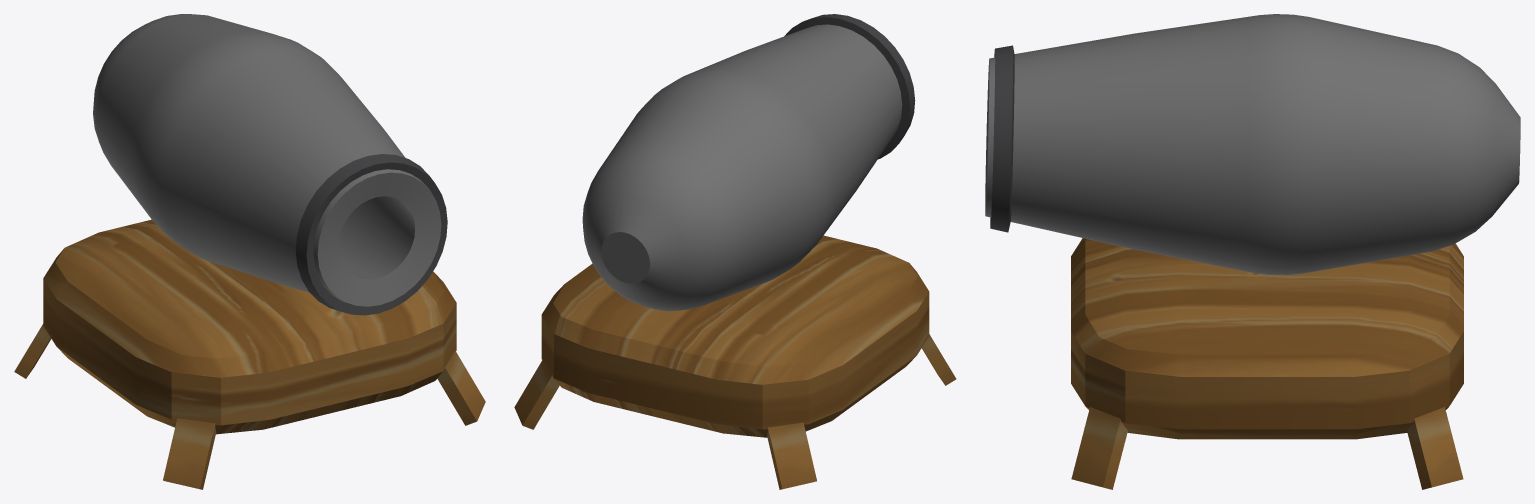
The model's file is newtop.fbx.
3 views of the same model, side by side, from view 1: azimuth 30°, elevation 25°; view 2: azimuth 150°, elevation 25°; view 3: azimuth 270°, elevation 25° (orthographic). The views are drawn at different scales.
Parts seen in each view (by area): view 1: top2, tahta1, top1, tahta2; view 2: top2, tahta1, tahta2, top1; view 3: top2, tahta1, tahta2, top1.
Part boxes in pixels (x1,y1,x2,y2): top2: (93, 14, 441, 306); tahta1: (43, 219, 456, 434); top1: (295, 154, 447, 315); tahta2: (14, 324, 485, 489); top2: (582, 24, 902, 311); tahta1: (541, 235, 929, 437); tahta2: (514, 334, 956, 489); top1: (784, 14, 915, 159); top2: (985, 14, 1520, 275); tahta1: (1071, 238, 1463, 439); tahta2: (1071, 407, 1463, 489); top1: (990, 45, 1014, 232).
Bounding box in the file's own units: 189 × 195 × 245.
Materials: 3 (1 with a texture image).
